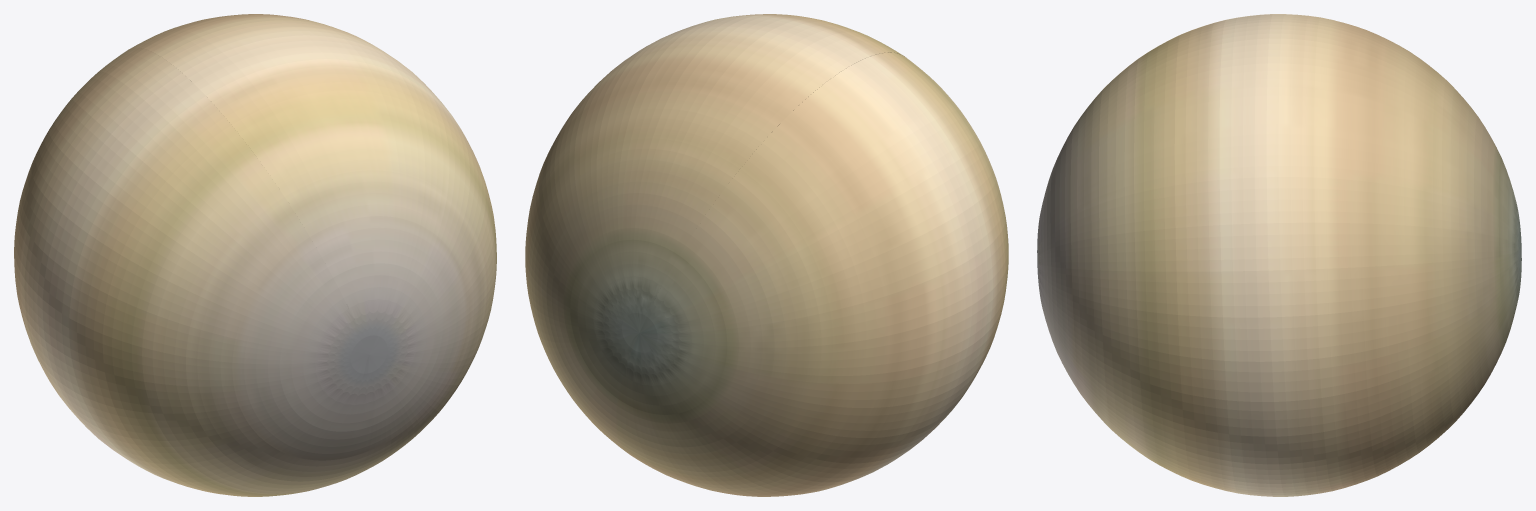
The model's file is saturn.obj.
3 renders of one model, left to right at view 1: azimuth 30°, elevation 25°; view 2: azimuth 150°, elevation 25°; view 3: azimuth 270°, elevation 25°, orthographic.
Parts seen in each view (by area): view 1: Sphere; view 2: Sphere; view 3: Sphere.
Boxes of the visible parts, x1,y1,x2,y2 form: Sphere: (14,14,496,496); Sphere: (525,14,1008,496); Sphere: (1037,14,1521,496).
Size of the model in its own units: 1.98 by 1.98 by 1.99.
Materials: 1 (1 with a texture image).
